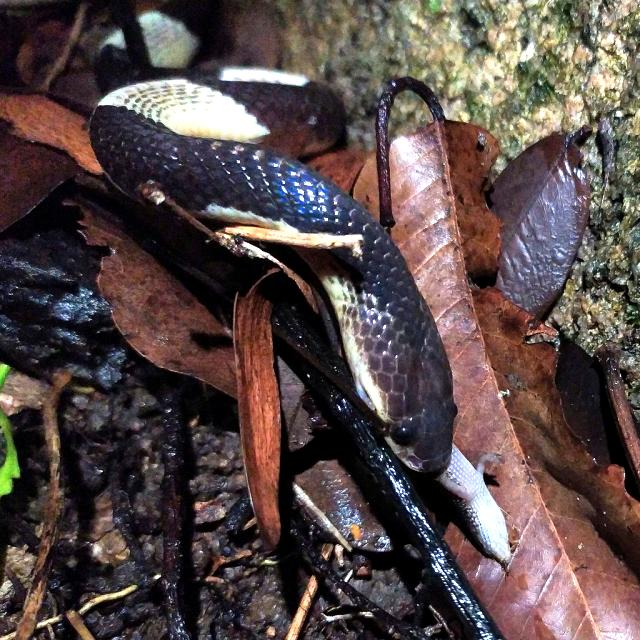Bungarus candidus: (90, 70, 509, 561)
